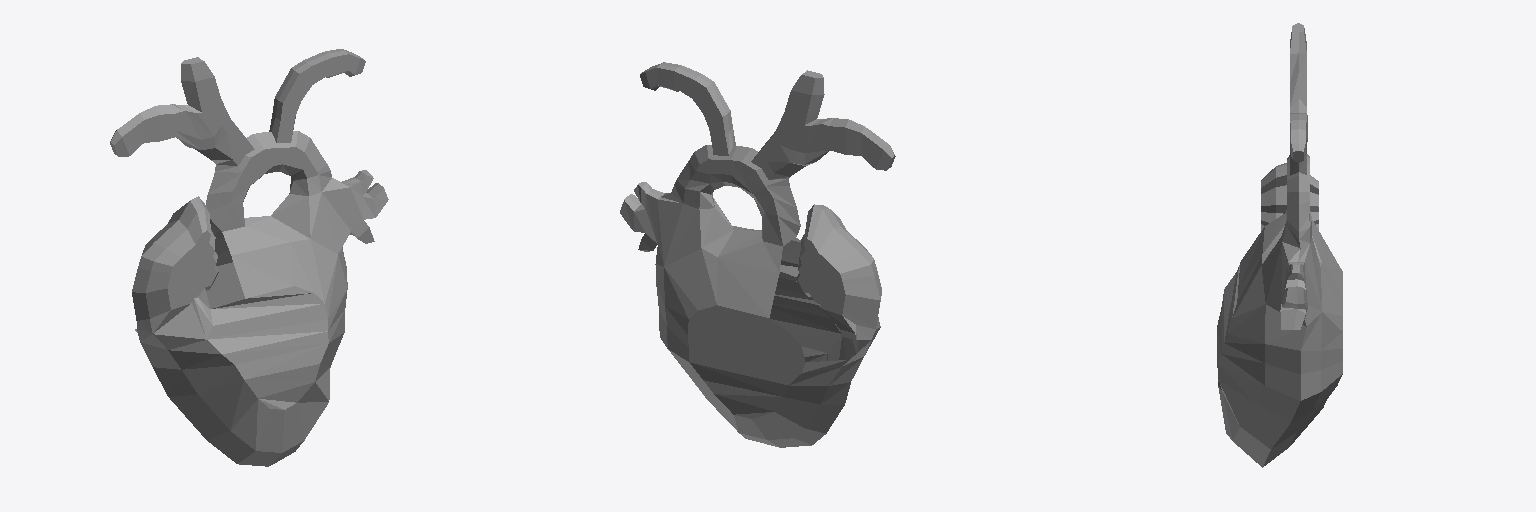
Rendered from BugHeart_2.obj.
The picture shows the model from 3 angles: view 1: azimuth 30°, elevation 25°; view 2: azimuth 150°, elevation 25°; view 3: azimuth 270°, elevation 25°; orthographic projection.
Parts seen in each view (by area): view 1: Cube.001; view 2: Cube.001; view 3: Cube.001.
Part boxes in pixels (x1,y1,x2,y2): Cube.001: (110,49,388,466); Cube.001: (620,62,895,447); Cube.001: (1217,23,1342,467).
Size of the model in its own units: 8.15 by 11.53 by 3.25.